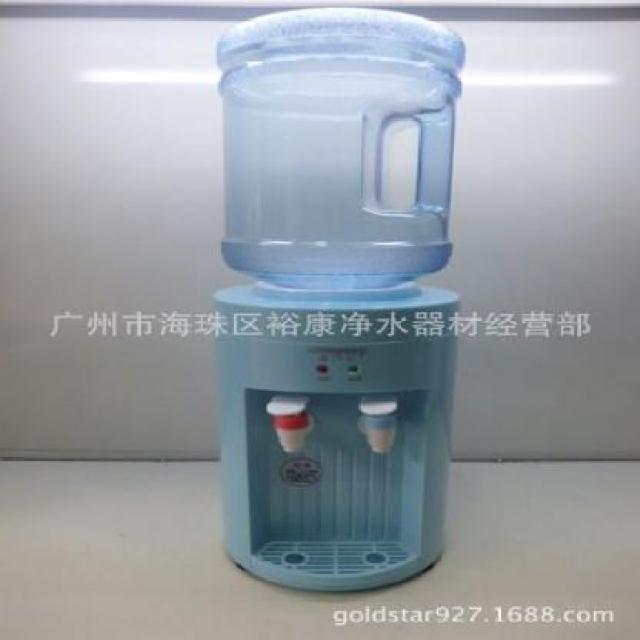coolerbottle: (211, 5, 470, 297)
